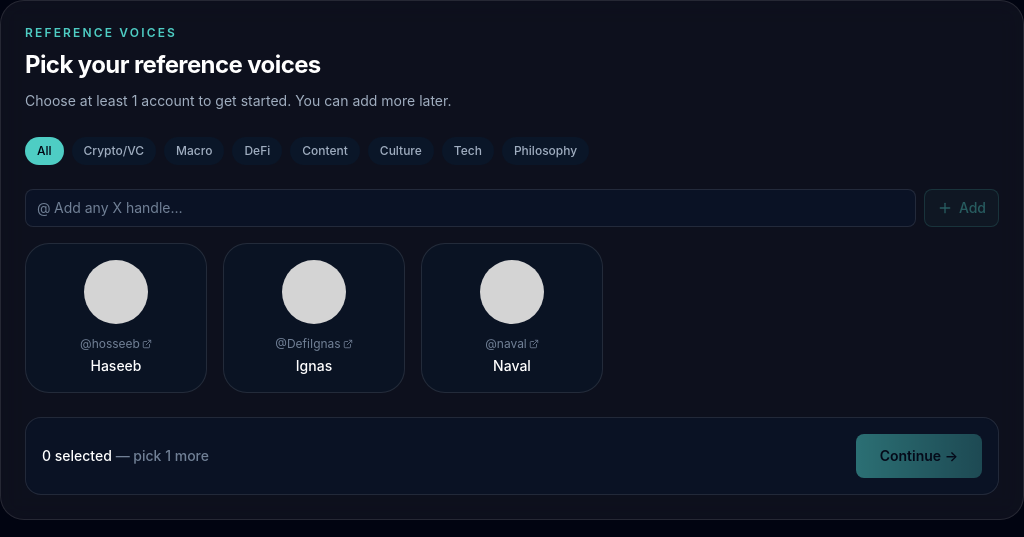
Test: ReferenceVoiceSelector › loads accounts, renders letter fallbacks, and filters by category
Expected: the text "Haseeb" is shown, [90,357,142,374]
Expected: the link "@hosseeb" is shown, [80,336,152,352]
Click the button "DeFi": (257, 151) [232,137,282,165]
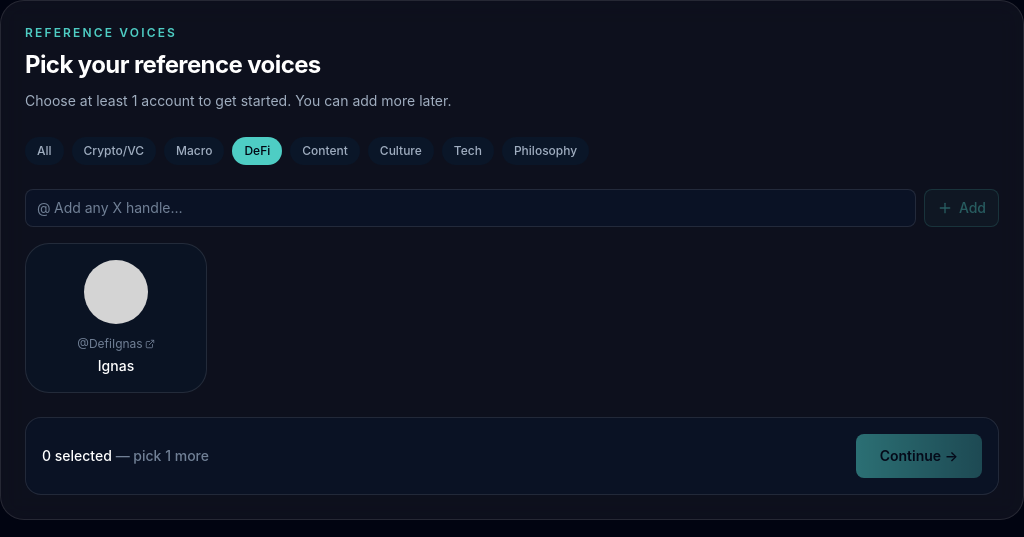
Expected: the text "Ignas" is shown, [98,357,134,374]
Now the button "Haseeb" is gone
Now the link "naval" is gone
